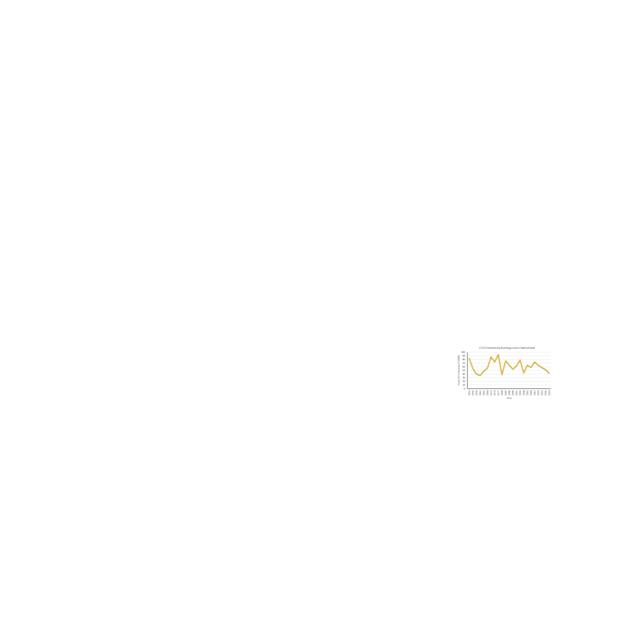Graph: (456, 345, 552, 400)
